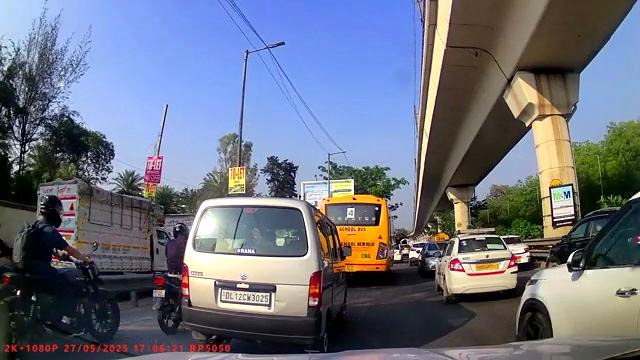motorcycle_with_helmet: (1, 194, 122, 348), (152, 221, 188, 333)
